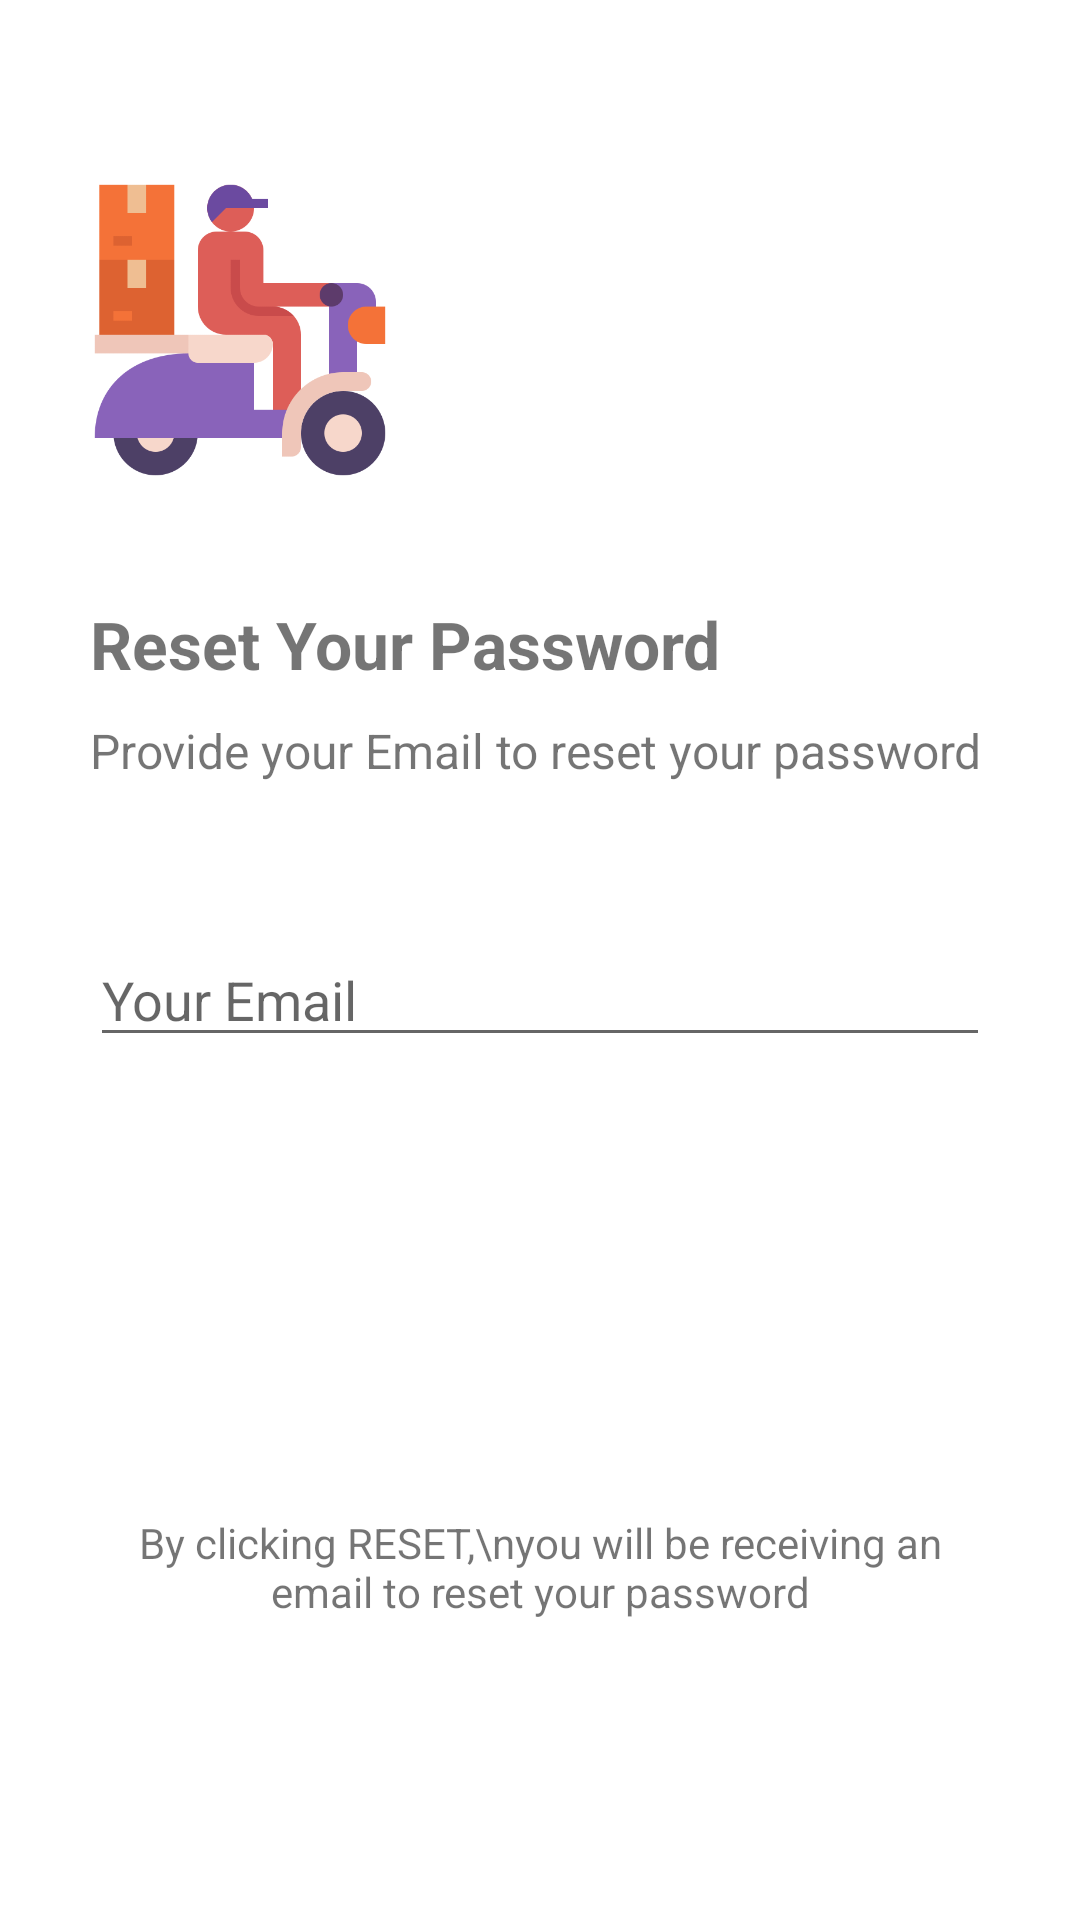

Icons on this 1080px x 1920px Android screen, each with the point to tap as (x=x, y=y):
delivery: (x=240, y=330)
